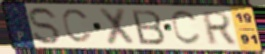B: (129, 8, 167, 46)
C: (61, 8, 95, 46), (170, 9, 203, 47)
R: (201, 10, 237, 46)
S: (28, 6, 63, 46)
X: (96, 6, 137, 47)
